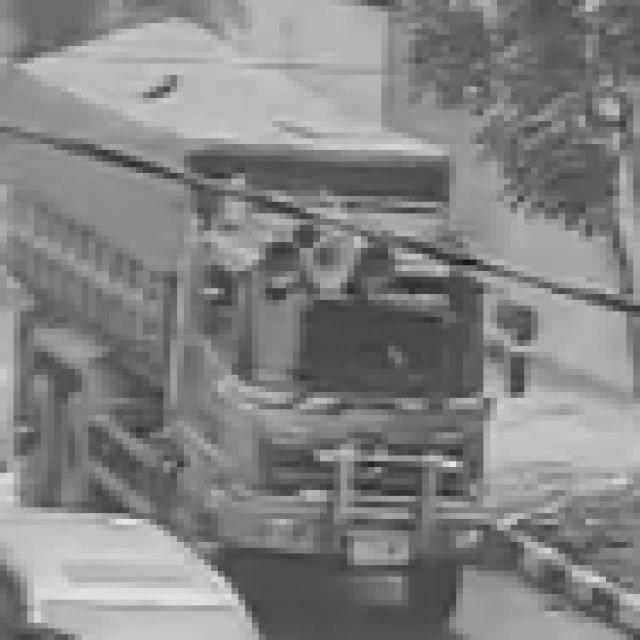Truck: (180, 55, 528, 621)
